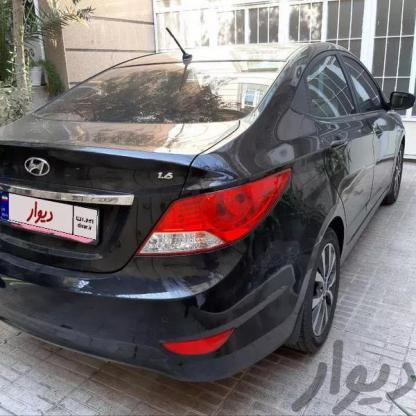Car: (0, 42, 416, 392)
